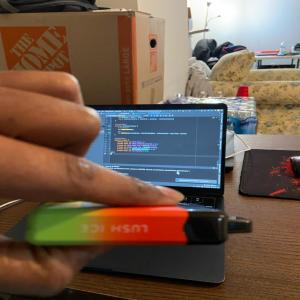Swift-E-Ciggirate: (13, 199, 258, 248)
